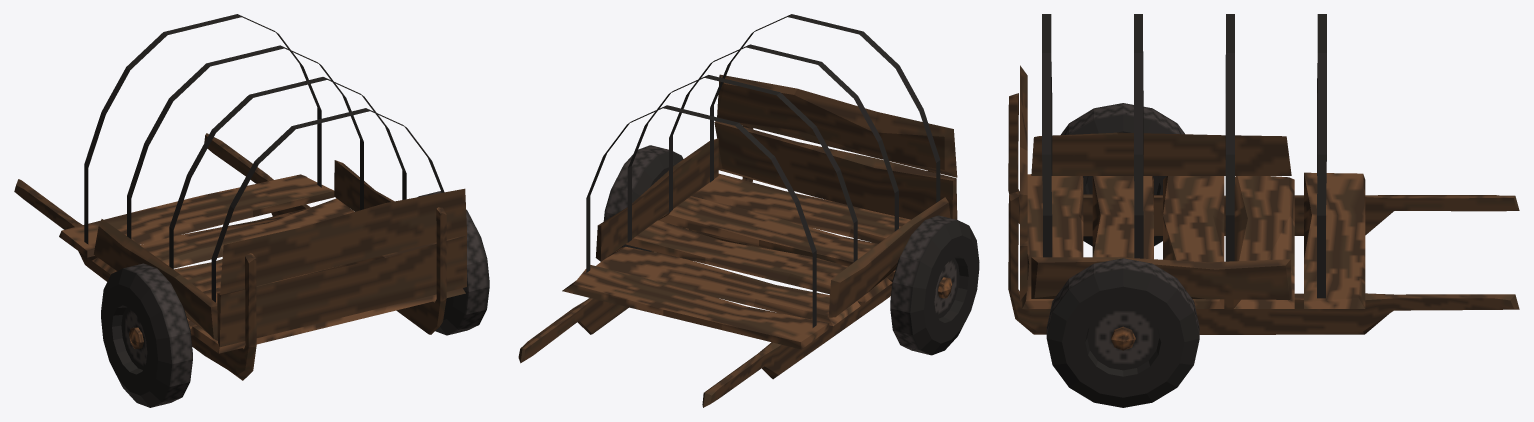
Rendered from Cart_Big.fbx.
3 views of the same model, side by side, from view 1: azimuth 30°, elevation 25°; view 2: azimuth 150°, elevation 25°; view 3: azimuth 270°, elevation 25° (orthographic). The views are drawn at different scales.
Parts seen in each view (by area): view 1: Plane.017; view 2: Plane.017; view 3: Plane.017.
Part boxes in pixels (left/top/right/bottom): Plane.017: left=14, top=14, right=489, bottom=407; Plane.017: left=518, top=14, right=979, bottom=407; Plane.017: left=1008, top=14, right=1519, bottom=407.
Bounding box in the file's own units: 268 × 210 × 334.
